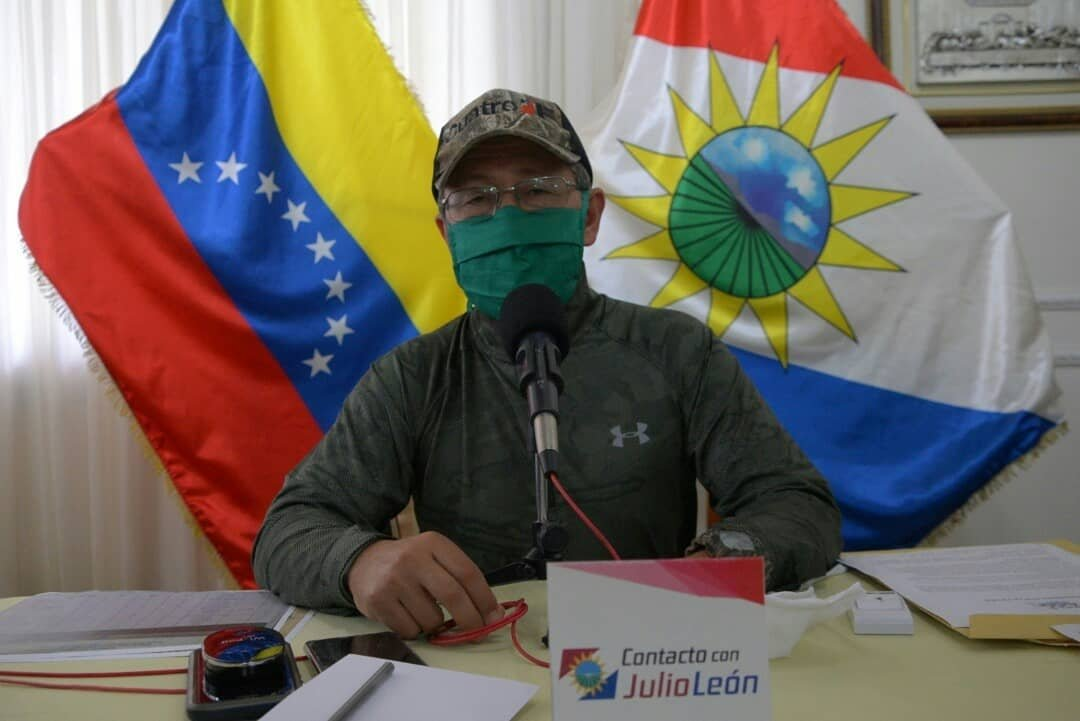with_mask: (433, 124, 594, 308)
